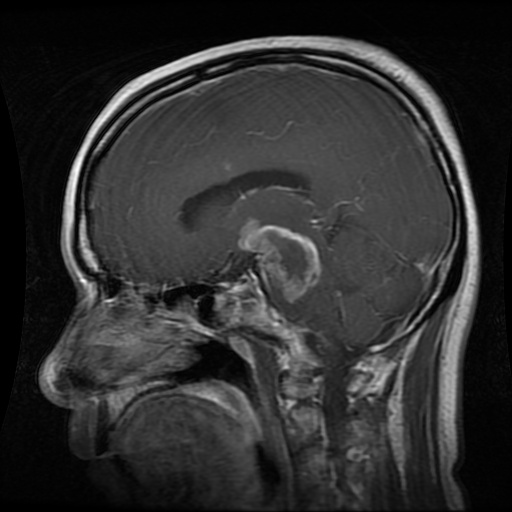glioma: (236, 215, 321, 301)
